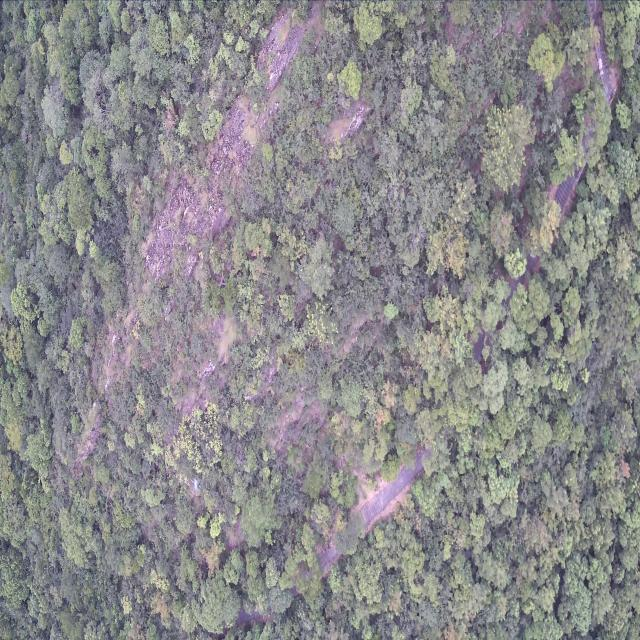drone: (190, 478, 202, 494)
